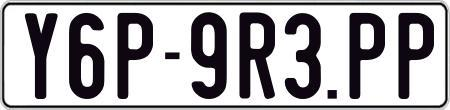3: (283, 11, 319, 101)
6: (66, 10, 107, 98)
9: (191, 12, 229, 100)
P: (116, 13, 157, 104), (348, 12, 387, 99), (397, 11, 434, 98)
R: (239, 11, 278, 99)
Y: (22, 12, 57, 102)
